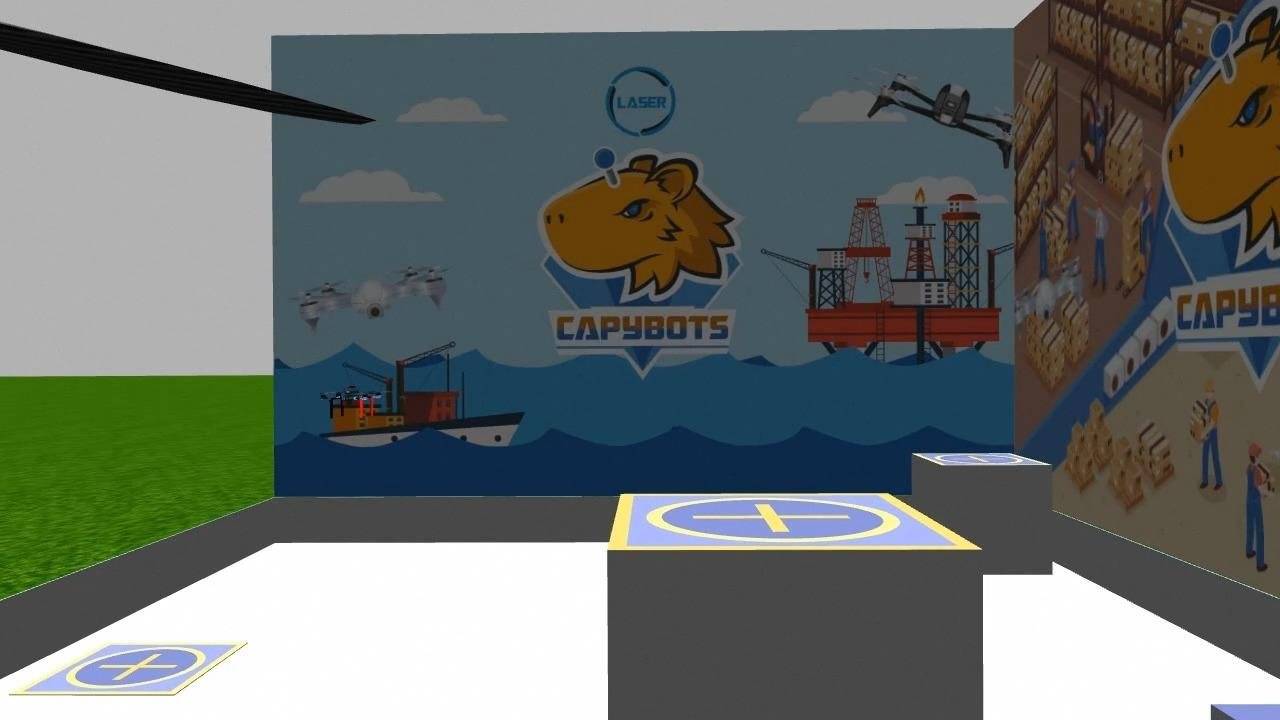UAV: (310, 376, 389, 428)
